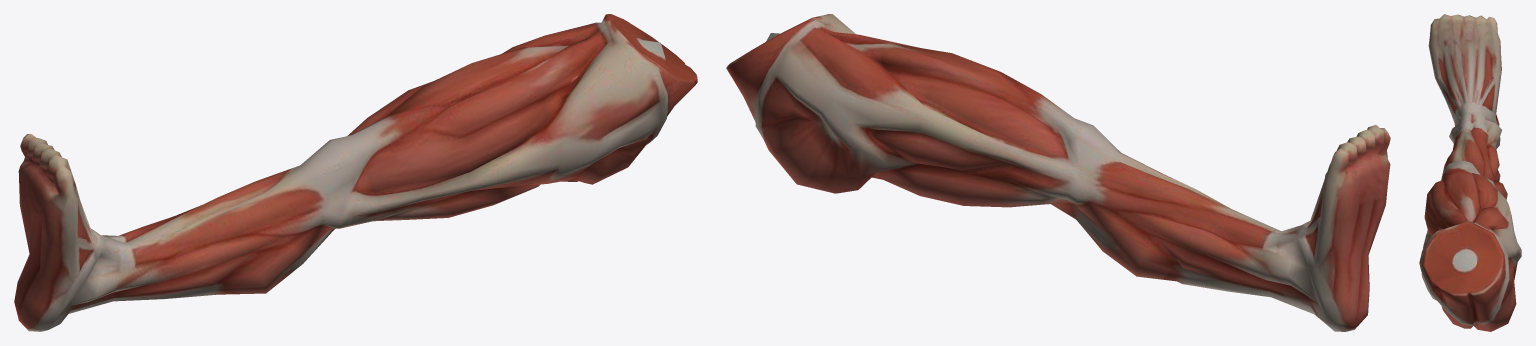
The model's file is leg-muscle.glb.
The picture shows the model from 3 angles, left to right: view 1: azimuth 30°, elevation 25°; view 2: azimuth 150°, elevation 25°; view 3: azimuth 270°, elevation 25°; orthographic projection. The views are drawn at different scales.
Parts seen in each view (by area): view 1: tripo_node_3c7af071-acec-4128-933f-3341c; view 2: tripo_node_3c7af071-acec-4128-933f-3341c; view 3: tripo_node_3c7af071-acec-4128-933f-3341c.
Part boxes in pixels (x1,y1,x2,y2): tripo_node_3c7af071-acec-4128-933f-3341c: (14, 14, 697, 331); tripo_node_3c7af071-acec-4128-933f-3341c: (726, 14, 1390, 331); tripo_node_3c7af071-acec-4128-933f-3341c: (1419, 14, 1521, 331).
Bounding box in the file's own units: 0.1296 × 0.0366 × 0.0244.
1 material, 1 textured.
